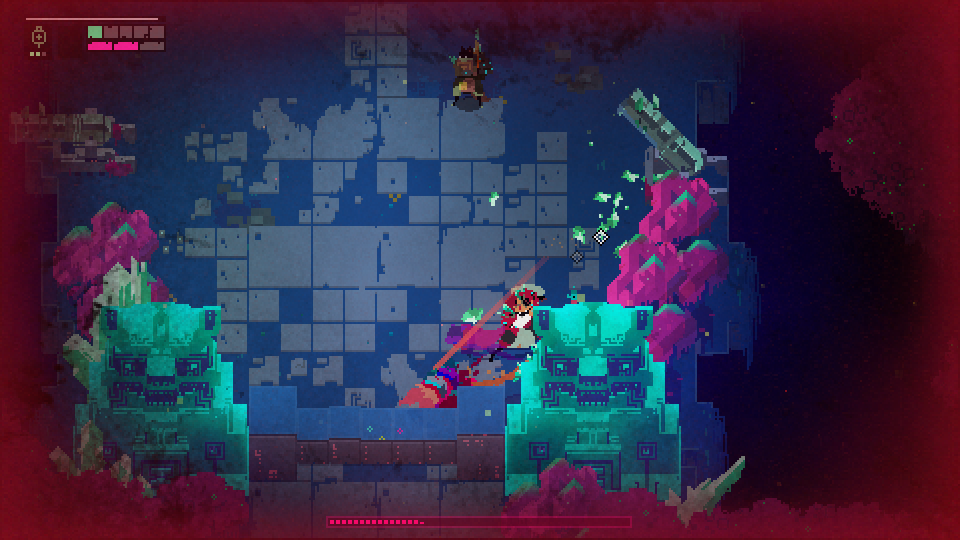hanged_man: (470, 274, 551, 389)
player: (389, 374, 450, 418)
